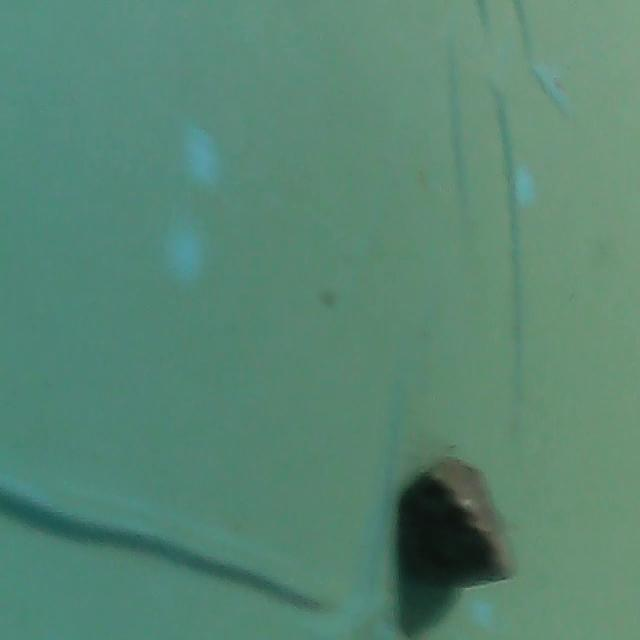rock: (395, 446, 523, 595)
